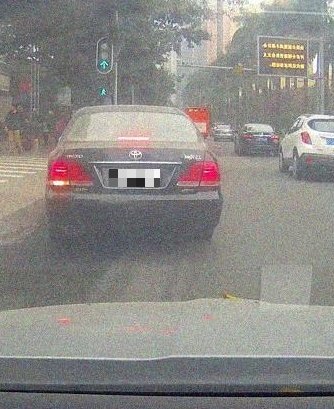L_light: (47, 159, 95, 186), (243, 135, 252, 138)
R_light: (176, 160, 221, 187), (270, 135, 279, 139)
T_light: (117, 137, 149, 140), (257, 125, 263, 126)
day-brake: (45, 105, 223, 240)
day-no: (241, 123, 280, 157)
plate_1: (109, 169, 160, 187)
